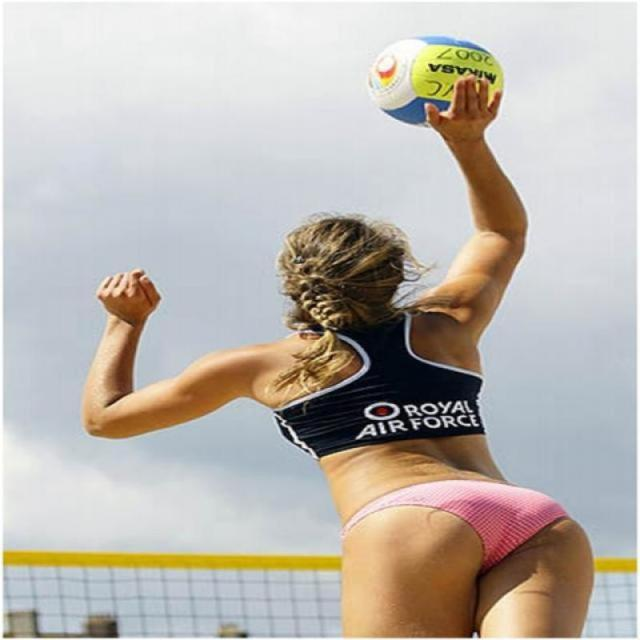volleyball: (361, 33, 508, 124)
